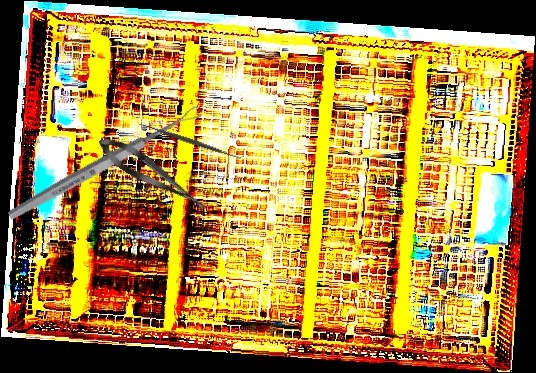Micro Scissor: (93, 129, 212, 220)
Spatula Surgical: (137, 117, 245, 165)
Surgical Spoon: (5, 104, 204, 223)
